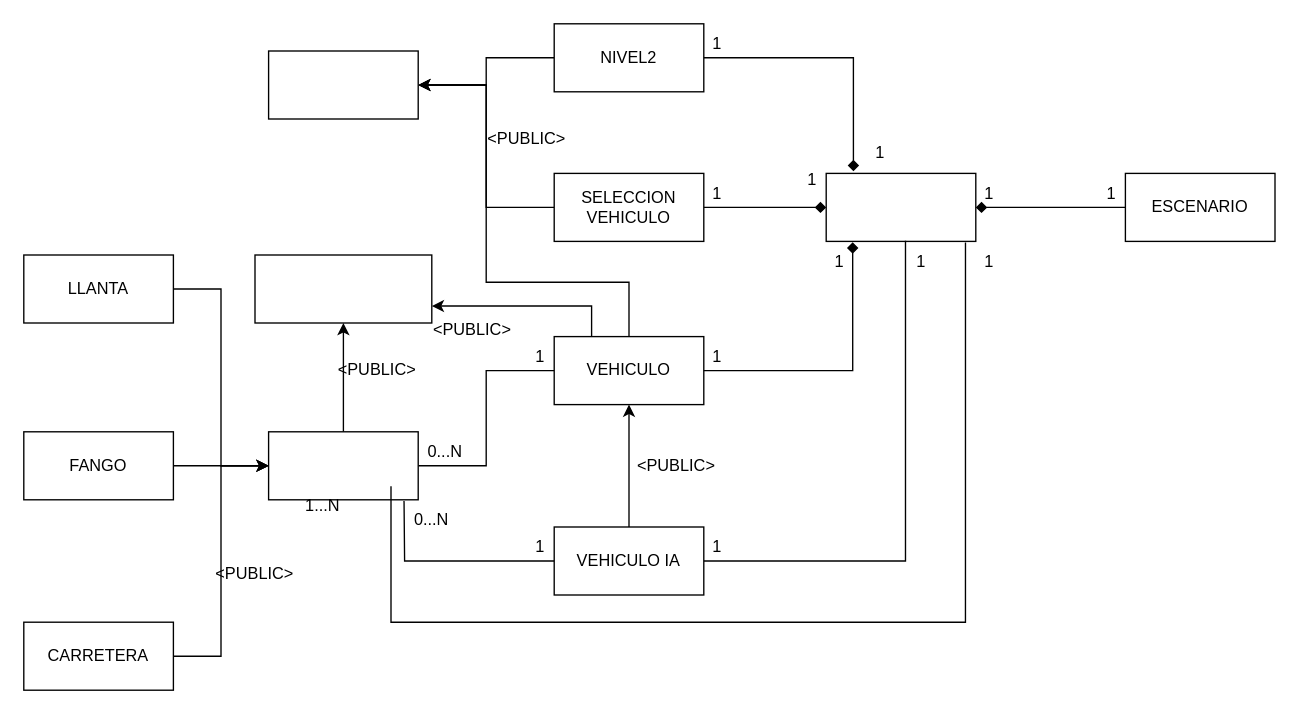
Some shapes in this 1299 by 714 pixel diagram are drawn without their labels. Each missing label, with the box of its shape:
MAINWINDOW: (825, 172, 976, 241)
QGraphicsPixmapItem: (254, 254, 432, 323)
QTWIDGET: (267, 50, 418, 119)
TERRENO: (267, 430, 418, 500)
